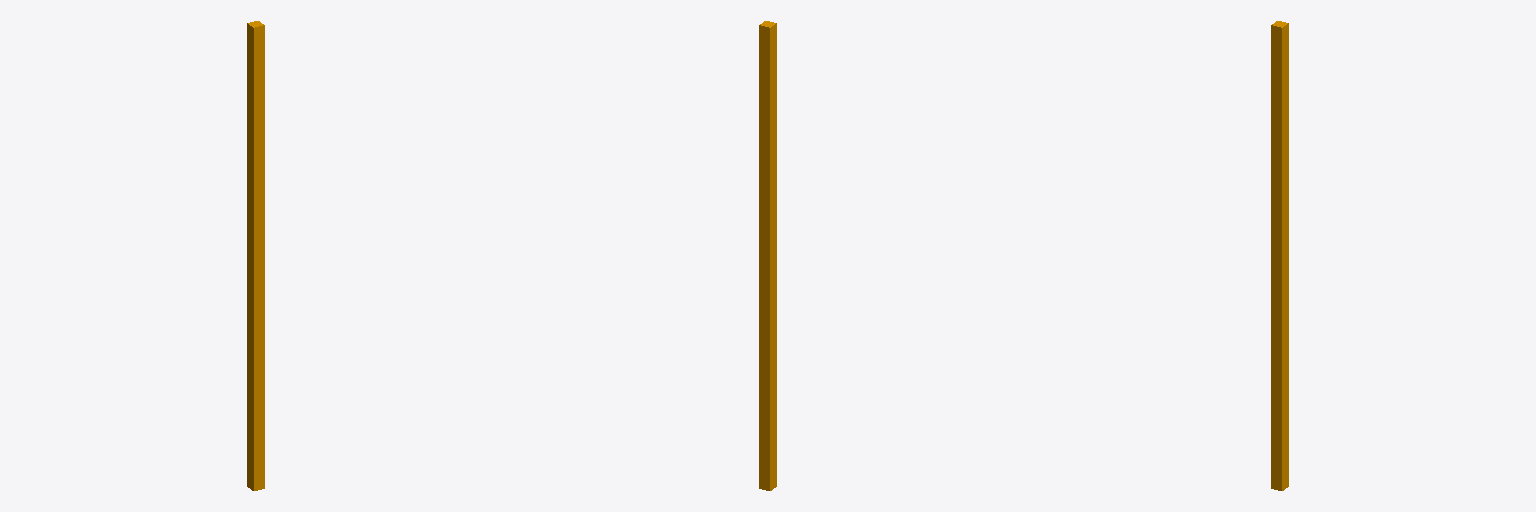
robot.urdf — box:
<?xml version='1.0' encoding='UTF-8'?>
<robot name="box">
  <link name="base_link">
    <inertial>
      <origin xyz="0.0 0.0 0.0" rpy="0.0 -0.0 0.0"/>
      <mass value="1.0"/>
      <inertia ixx="1.0" ixy="0.0" ixz="0.0" iyy="1.0" iyz="0.0" izz="1.0"/>
    </inertial>
    <visual name="base_link_visual">
      <geometry>
        <box size="0.05 0.05 2.0"/>
      </geometry>
      <origin xyz="0 0 0" rpy="0 0 0"/>
    </visual>
    <collision name="base_link_collision">
      <geometry>
        <box size="0.05 0.05 2.0"/>
      </geometry>
      <origin xyz="0 0 0" rpy="0 0 0"/>
    </collision>
  </link>
</robot>

--- What the picture shows (computed from the rendered views, not written in the file) ---
3 views of the same robot in one strip: view 1: azimuth 30°, elevation 25°; view 2: azimuth 150°, elevation 25°; view 3: azimuth 330°, elevation 25° (orthographic).
Model box with 1 links and 0 joints (none), rooted at base_link, posed every joint at zero.
Visible links, largest first — view 1: base_link; view 2: base_link; view 3: base_link.
Boxes of the visible links, x1,y1,x2,y2 form: base_link: (247, 21, 264, 490); base_link: (759, 21, 776, 490); base_link: (1271, 21, 1288, 490).
Size in the robot's own frame: 0.05 by 0.05 by 2 metres.
Geometry: primitives only (box / cylinder / sphere), no mesh files.
